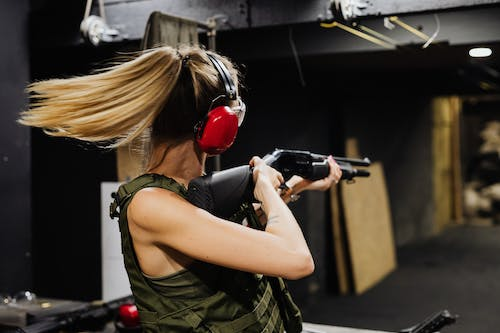gun: (185, 145, 374, 221)
